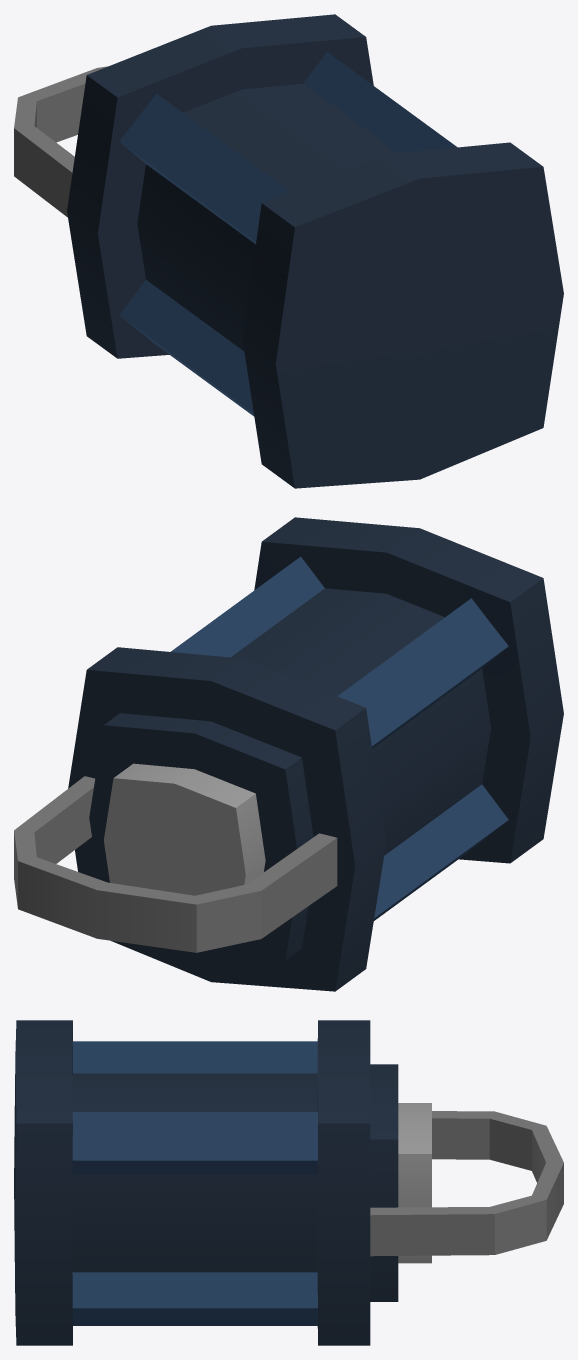
Rendered from Lamp 01.FBX.
3 renders of one model, top to bottom at view 1: azimuth 30°, elevation 25°; view 2: azimuth 150°, elevation 25°; view 3: azimuth 270°, elevation 25°, orthographic. The views are drawn at different scales.
Parts seen in each view (by area): view 1: Lamp 01, Lamp 01 Light; view 2: Lamp 01, Lamp 01 Light; view 3: Lamp 01, Lamp 01 Light.
Boxes of the visible parts, bbox=[...] form: Lamp 01: bbox=[14, 14, 563, 488]; Lamp 01 Light: bbox=[137, 84, 397, 350]; Lamp 01: bbox=[14, 517, 563, 991]; Lamp 01 Light: bbox=[231, 588, 490, 855]; Lamp 01: bbox=[14, 1020, 563, 1345]; Lamp 01 Light: bbox=[72, 1073, 317, 1272].
Bounding box in the file's own units: 43.43 × 43.34 × 84.45.
